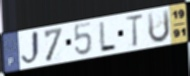5: (73, 21, 93, 58)
7: (43, 27, 65, 64)
J: (20, 29, 42, 68)
L: (98, 20, 118, 52)
T: (124, 13, 145, 49)
U: (146, 8, 171, 45)
